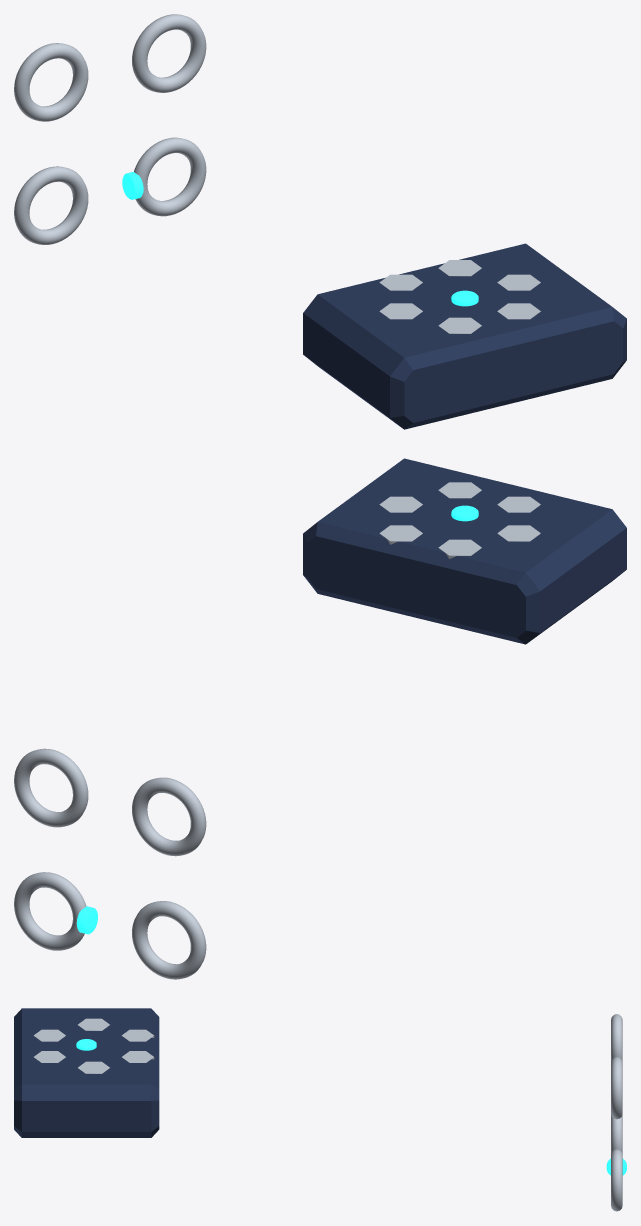
File: tower_skywatch_damage_s3.glb
3 renders of one model, top to bottom at view 1: azimuth 30°, elevation 25°; view 2: azimuth 150°, elevation 25°; view 3: azimuth 270°, elevation 25°, orthographic. The views are drawn at different scales.
Parts seen in each view (by area): view 1: skywatch_housing_armour, skywatch_armour_bolts, skywatch_crown2, skywatch_crown1, skywatch_crown3, skywatch_crown0; view 2: skywatch_housing_armour, skywatch_armour_bolts, skywatch_crown2, skywatch_crown1, skywatch_crown3, skywatch_crown0; view 3: skywatch_housing_armour, skywatch_armour_bolts, skywatch_crown0, skywatch_crown1, skywatch_crown3, skywatch_crown2.
Boxes of the visible parts, x1,y1,x2,y2 form: skywatch_housing_armour: [303, 243, 626, 429]; skywatch_armour_bolts: [379, 260, 540, 333]; skywatch_crown2: [14, 166, 88, 244]; skywatch_crown1: [132, 14, 206, 92]; skywatch_crown3: [14, 43, 88, 121]; skywatch_crown0: [134, 137, 206, 216]; skywatch_housing_armour: [303, 458, 626, 644]; skywatch_armour_bolts: [379, 482, 540, 559]; skywatch_crown2: [132, 901, 206, 979]; skywatch_crown1: [14, 748, 88, 827]; skywatch_crown3: [132, 777, 206, 856]; skywatch_crown0: [14, 872, 86, 950]; skywatch_housing_armour: [14, 1008, 159, 1137]; skywatch_armour_bolts: [33, 1018, 154, 1073]; skywatch_crown0: [611, 1149, 622, 1211]; skywatch_crown1: [611, 1057, 622, 1119]; skywatch_crown3: [611, 1014, 622, 1061]; skywatch_crown2: [611, 1114, 622, 1153].
Size of the model in its own units: 0.5632 by 0.452 by 1.69.
